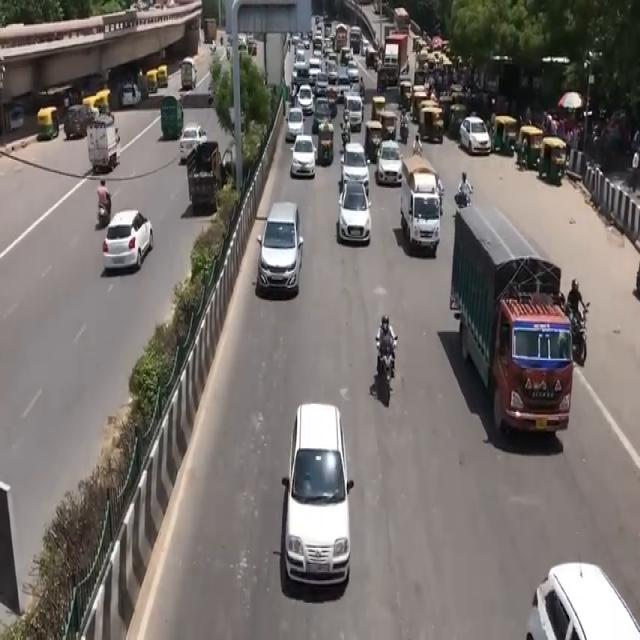MOTORCYCLE: (378, 338, 396, 408)
TRUCK: (461, 203, 578, 443), (402, 166, 443, 260), (418, 102, 444, 144)
